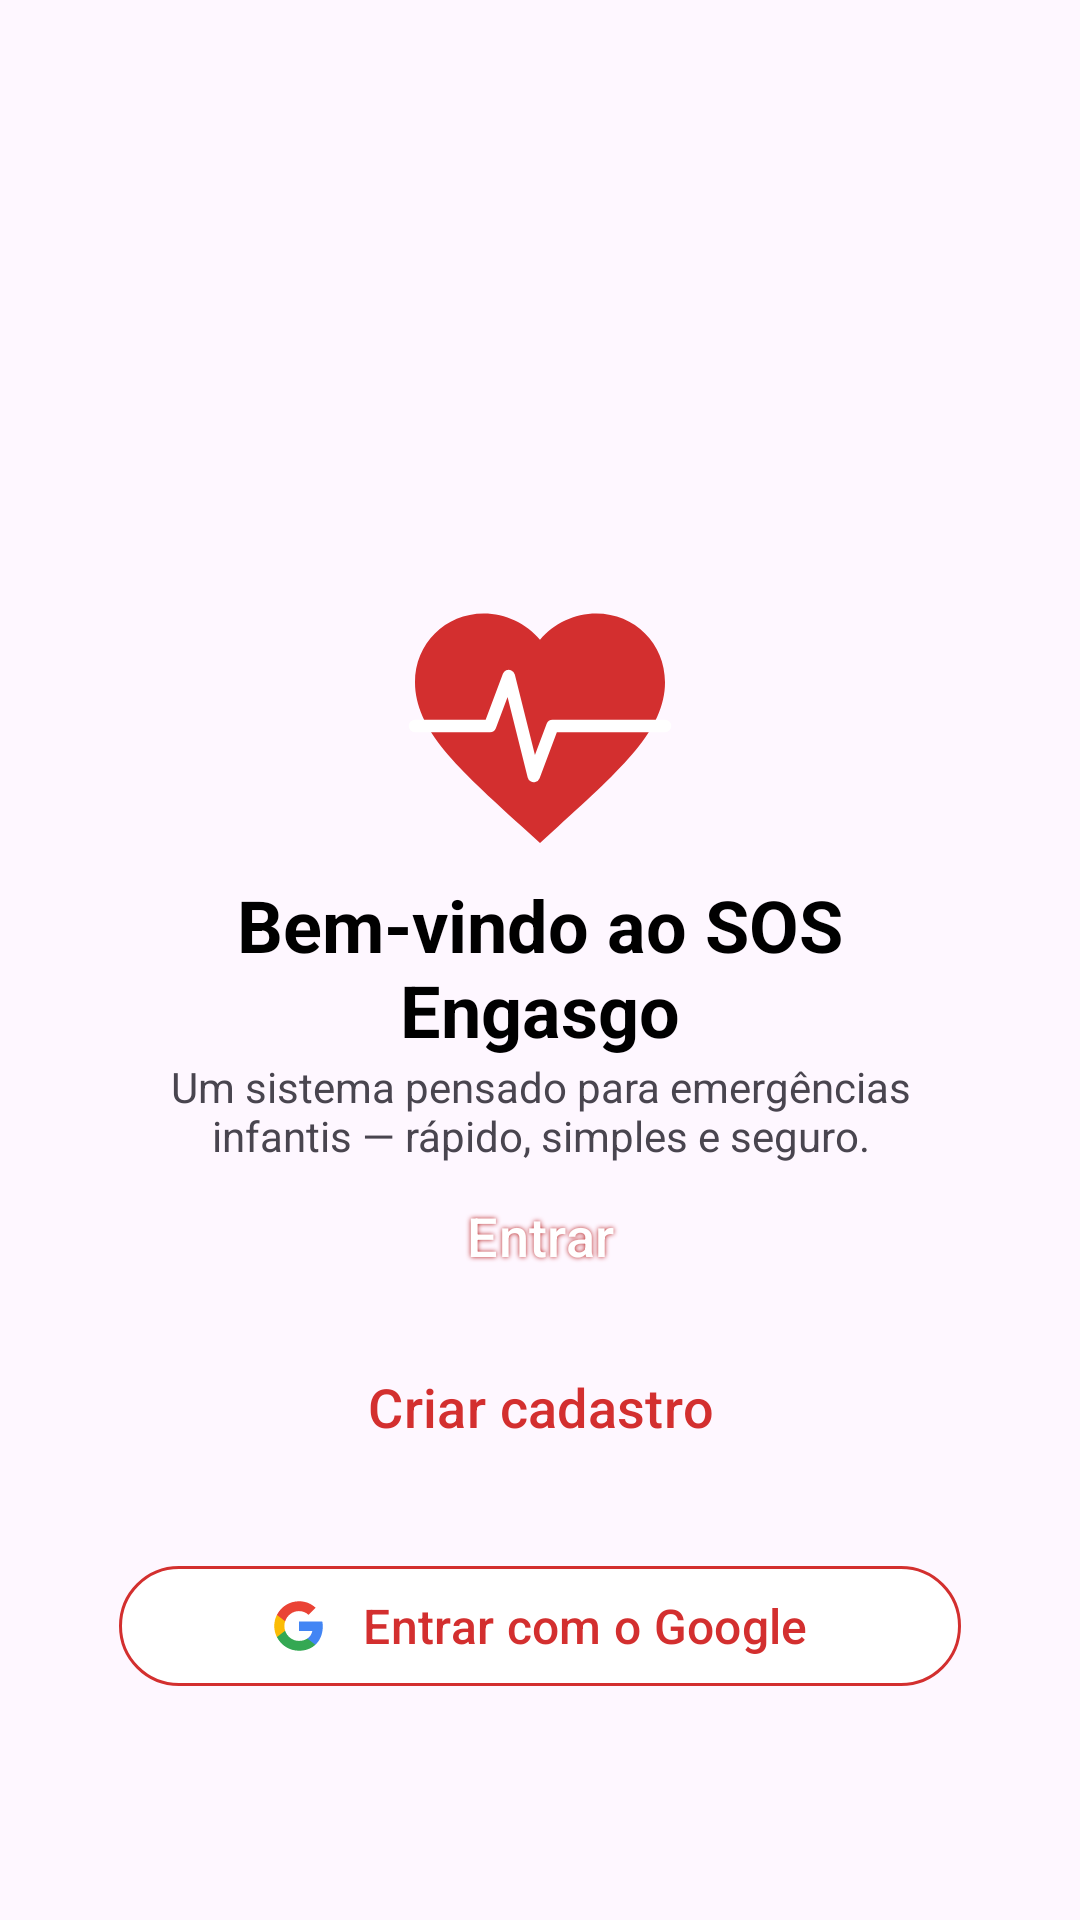

Screen size 1080×1920. Icon name, then its center in pixels as (x=x, y=y):
heart pulse: (x=540, y=728)
